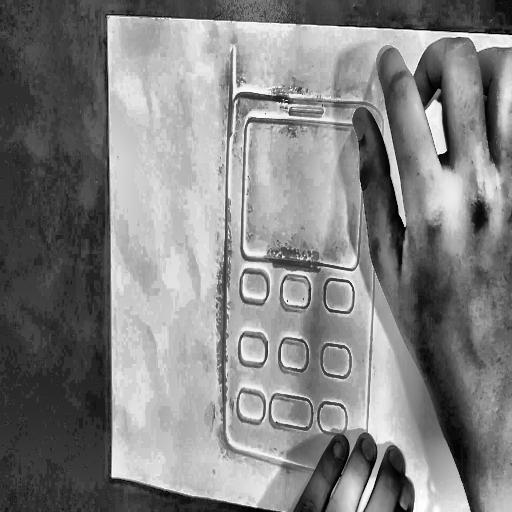bottom_left: (109, 471, 116, 482)
mobile: (216, 40, 391, 494)
top_left: (105, 11, 112, 23)
